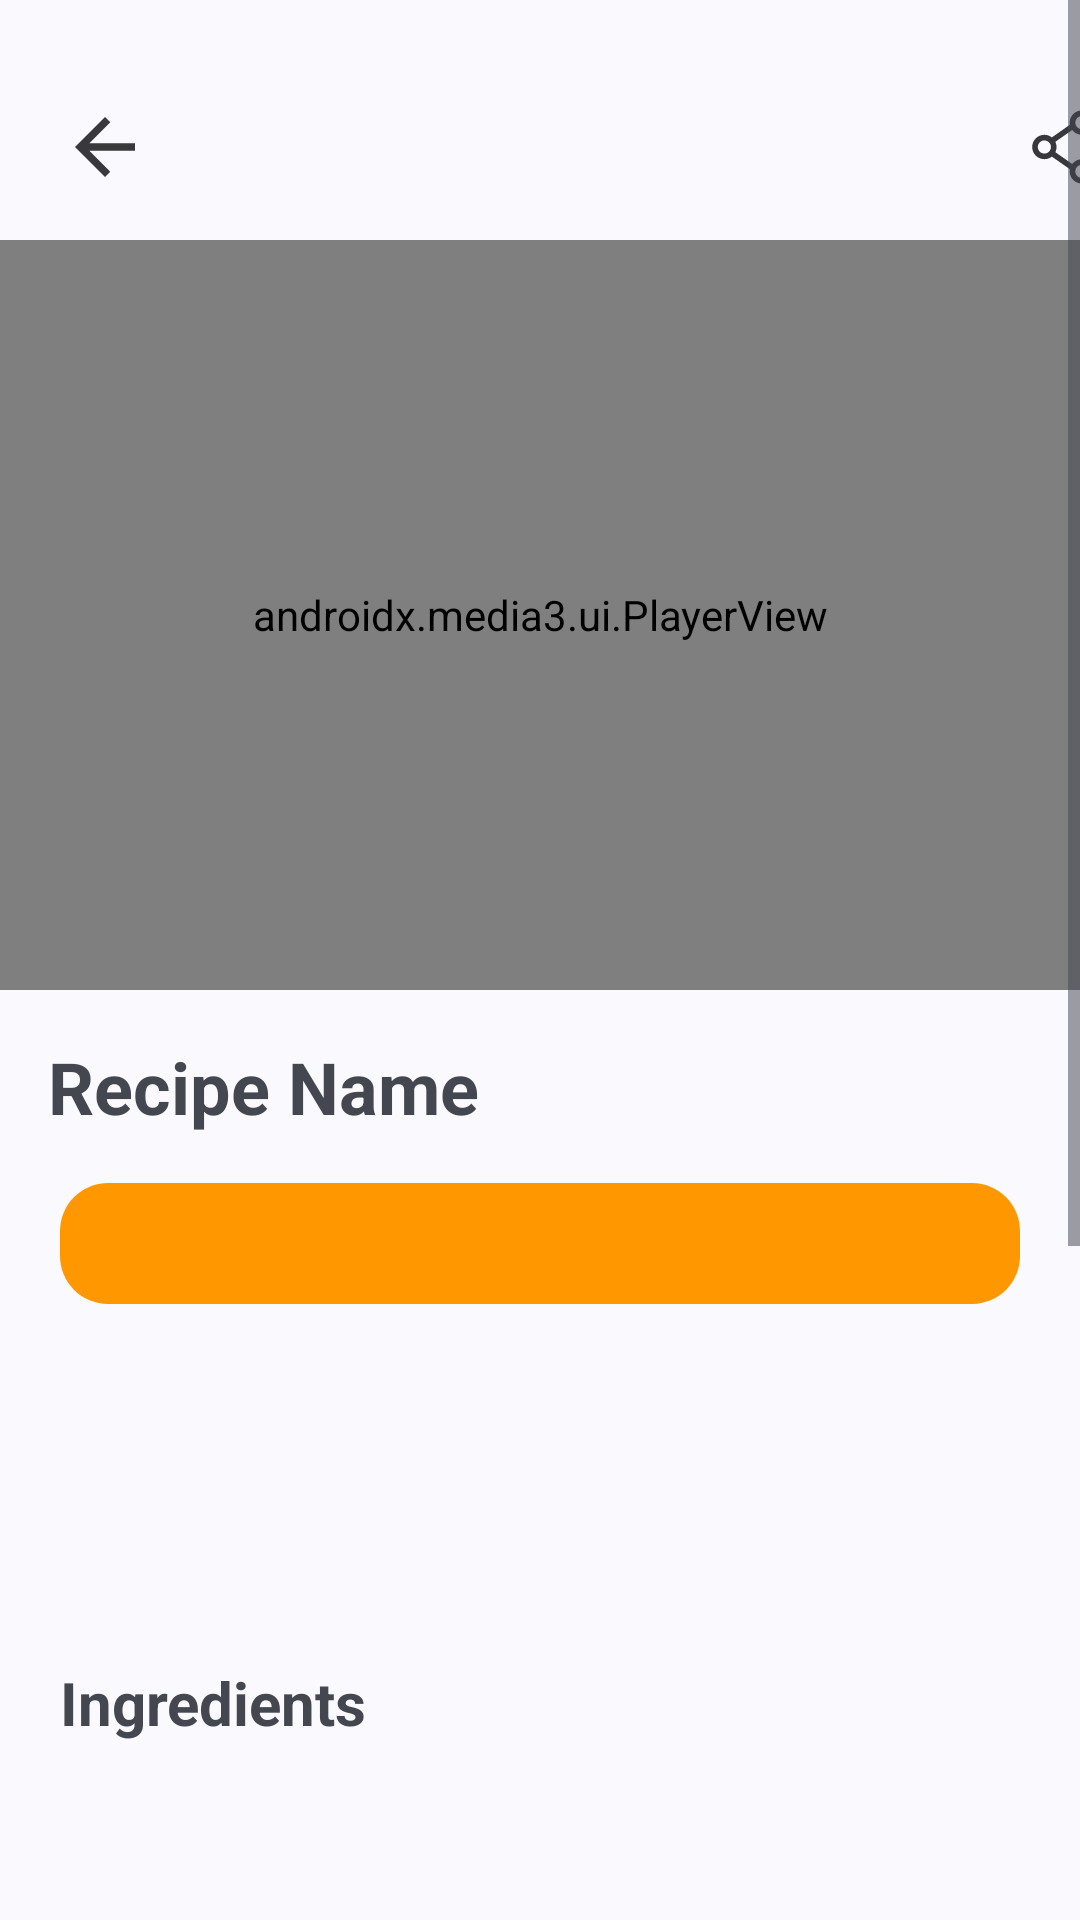

Locate icon controls on the screen. Image size 1080px×1920px, boxes as box=[x1, y1, x2, y2].
arrow back: box=[75, 117, 135, 177]
